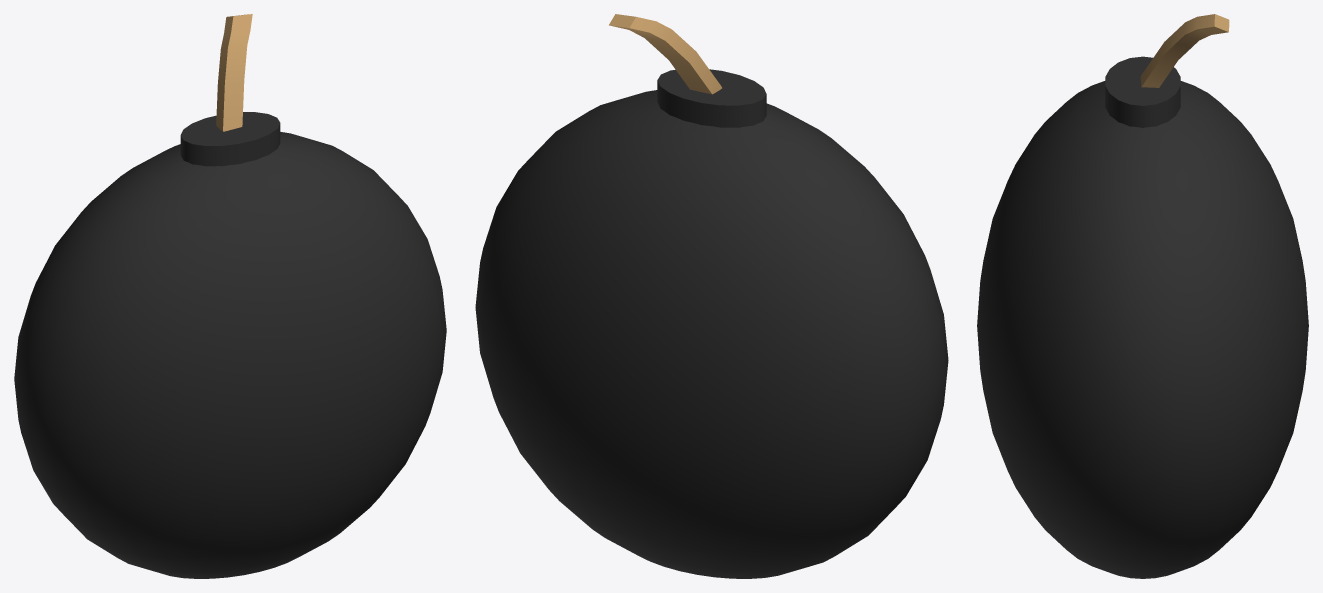
File: bomb.fbx
The picture shows the model from 3 angles, left to right: view 1: azimuth 30°, elevation 25°; view 2: azimuth 150°, elevation 25°; view 3: azimuth 270°, elevation 25°; orthographic projection. The views are drawn at different scales.
Parts seen in each view (by area): view 1: Sphere001, Box001; view 2: Sphere001, Box001; view 3: Sphere001, Box001.
Boxes of the visible parts, <box> form: Sphere001: <box>14,112,446,578</box>; Box001: <box>216,14,252,131</box>; Sphere001: <box>475,69,948,578</box>; Box001: <box>609,14,721,94</box>; Sphere001: <box>977,56,1308,578</box>; Box001: <box>1140,14,1229,87</box>.
Size of the model in its own units: 59.6 by 72.77 by 39.04.
